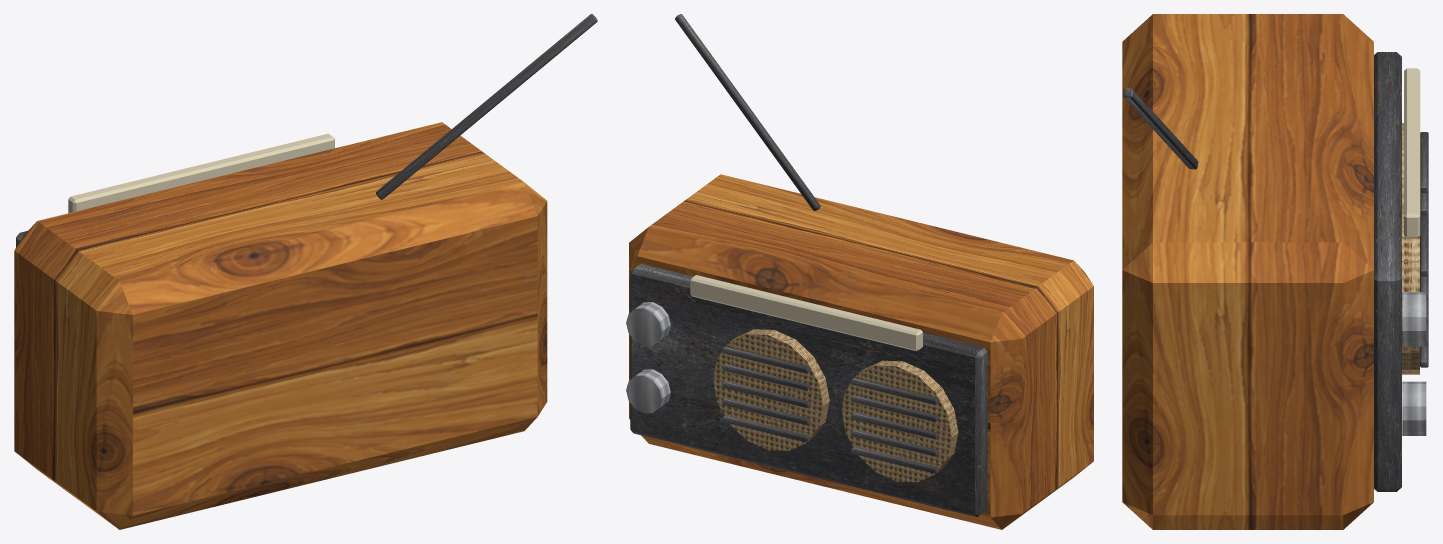
Rendered from InteriorCozy_Radio.fbx.
The picture shows the model from 3 angles, left to right: view 1: azimuth 30°, elevation 25°; view 2: azimuth 150°, elevation 25°; view 3: azimuth 270°, elevation 25°; orthographic projection. The views are drawn at different scales.
Visible parts, largest first — view 1: InteriorCozy_Radio; view 2: InteriorCozy_Radio; view 3: InteriorCozy_Radio.
Part boxes in pixels (x1,y1,x2,y2): InteriorCozy_Radio: [14, 14, 597, 529]; InteriorCozy_Radio: [626, 14, 1093, 529]; InteriorCozy_Radio: [1122, 14, 1428, 529].
Bounding box in the file's own units: 0.5976 × 0.4777 × 0.28.
